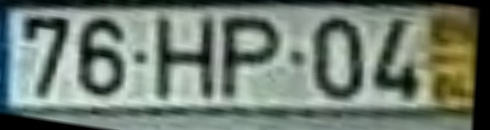0: (303, 14, 369, 105)
4: (369, 15, 424, 105)
6: (74, 16, 129, 103)
7: (20, 15, 75, 104)
H: (150, 18, 220, 106)
P: (219, 13, 287, 104)
